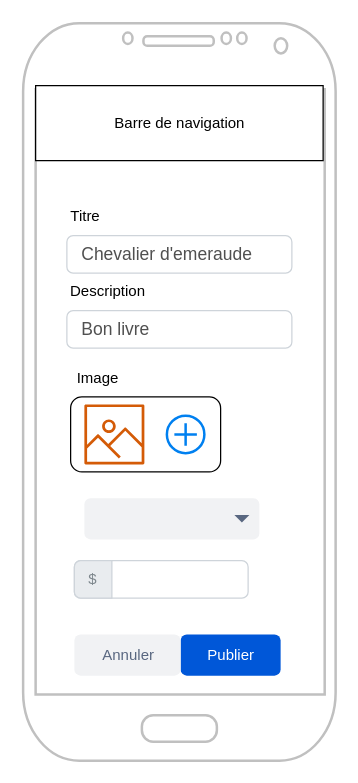
Image size: 358x783. Some labels were removed from this diagram. Each missing label, with the centre of its shape:
Prix de vente: point (160, 578)
Programme d'étude: point (171, 518)
